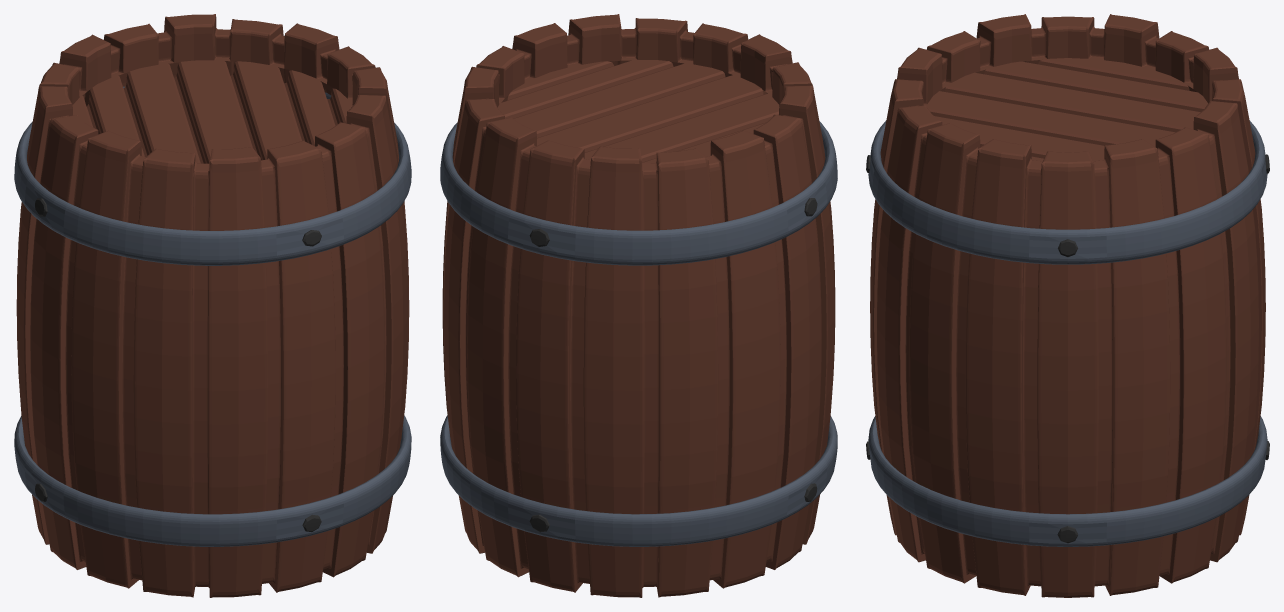
The model's file is barrelCracked.fbx.
3 renders of one model, left to right at view 1: azimuth 30°, elevation 25°; view 2: azimuth 150°, elevation 25°; view 3: azimuth 270°, elevation 25°, orthographic.
Parts seen in each view (by area): view 1: Barrel.001, Barrel.016, Barrel.002, Barrel.015, Barrel.019, Barrel.003, Barrel.017, Barrel.014, Barrel.018, Barrel.004, Barrel.013, Barrel.009 (+8 smaller); view 2: Barrel.011, Barrel.012, Barrel.010, Barrel.013, Barrel.019, Barrel.009, Barrel.017, Barrel.014, Barrel.018, Barrel.008, Barrel.015, Barrel.004 (+8 smaller); view 3: Barrel.006, Barrel.005, Barrel.007, Barrel.004, Barrel.019, Barrel.008, Barrel.017, Barrel.018, Barrel.009, Barrel.003, Barrel.002, Barrel.010 (+8 smaller).
Part boxes in pixels (<box>): Barrel.001: <box>200,147,273,597</box>; Barrel.016: <box>129,148,207,597</box>; Barrel.002: <box>262,140,337,592</box>; Barrel.015: <box>71,130,145,587</box>; Barrel.019: <box>72,60,352,163</box>; Barrel.003: <box>315,122,384,576</box>; Barrel.017: <box>14,86,411,265</box>; Barrel.014: <box>30,115,98,569</box>; Barrel.018: <box>14,415,411,546</box>; Barrel.004: <box>346,95,407,553</box>; Barrel.013: <box>16,86,72,544</box>; Barrel.009: <box>159,14,223,77</box>; Barrel.011: <box>578,146,651,596</box>; Barrel.012: <box>649,148,722,596</box>; Barrel.010: <box>514,140,589,592</box>; Barrel.013: <box>707,130,780,588</box>; Barrel.019: <box>497,59,779,163</box>; Barrel.009: <box>467,117,536,576</box>; Barrel.017: <box>440,121,837,265</box>; Barrel.014: <box>753,114,821,569</box>; Barrel.018: <box>440,415,837,546</box>; Barrel.008: <box>444,99,504,553</box>; Barrel.015: <box>779,85,835,543</box>; Barrel.004: <box>567,14,629,66</box>; Barrel.006: <box>1031,151,1104,596</box>; Barrel.005: <box>962,139,1037,595</box>; Barrel.007: <box>1098,139,1173,595</box>; Barrel.004: <box>909,123,980,582</box>; Barrel.019: <box>926,58,1208,161</box>; Barrel.008: <box>1155,127,1226,582</box>; Barrel.017: <box>866,120,1269,264</box>; Barrel.018: <box>866,416,1269,546</box>; Barrel.009: <box>1193,101,1258,561</box>; Barrel.003: <box>877,105,942,561</box>; Barrel.002: <box>870,79,923,534</box>; Barrel.010: <box>1212,79,1265,534</box>.
Size of the model in its own units: 35.82 by 43.09 by 35.82.
